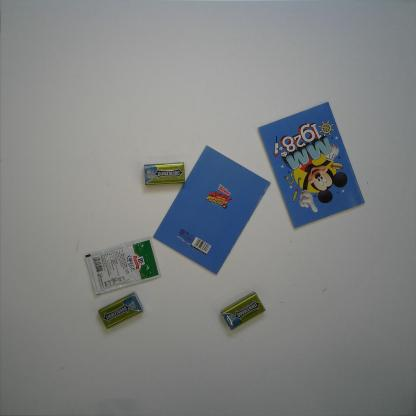Gum: (220, 291, 266, 331), (97, 291, 144, 330), (143, 162, 186, 186)
Seasoner: (86, 236, 162, 297)
Stationery: (153, 144, 271, 276), (257, 100, 365, 229)
